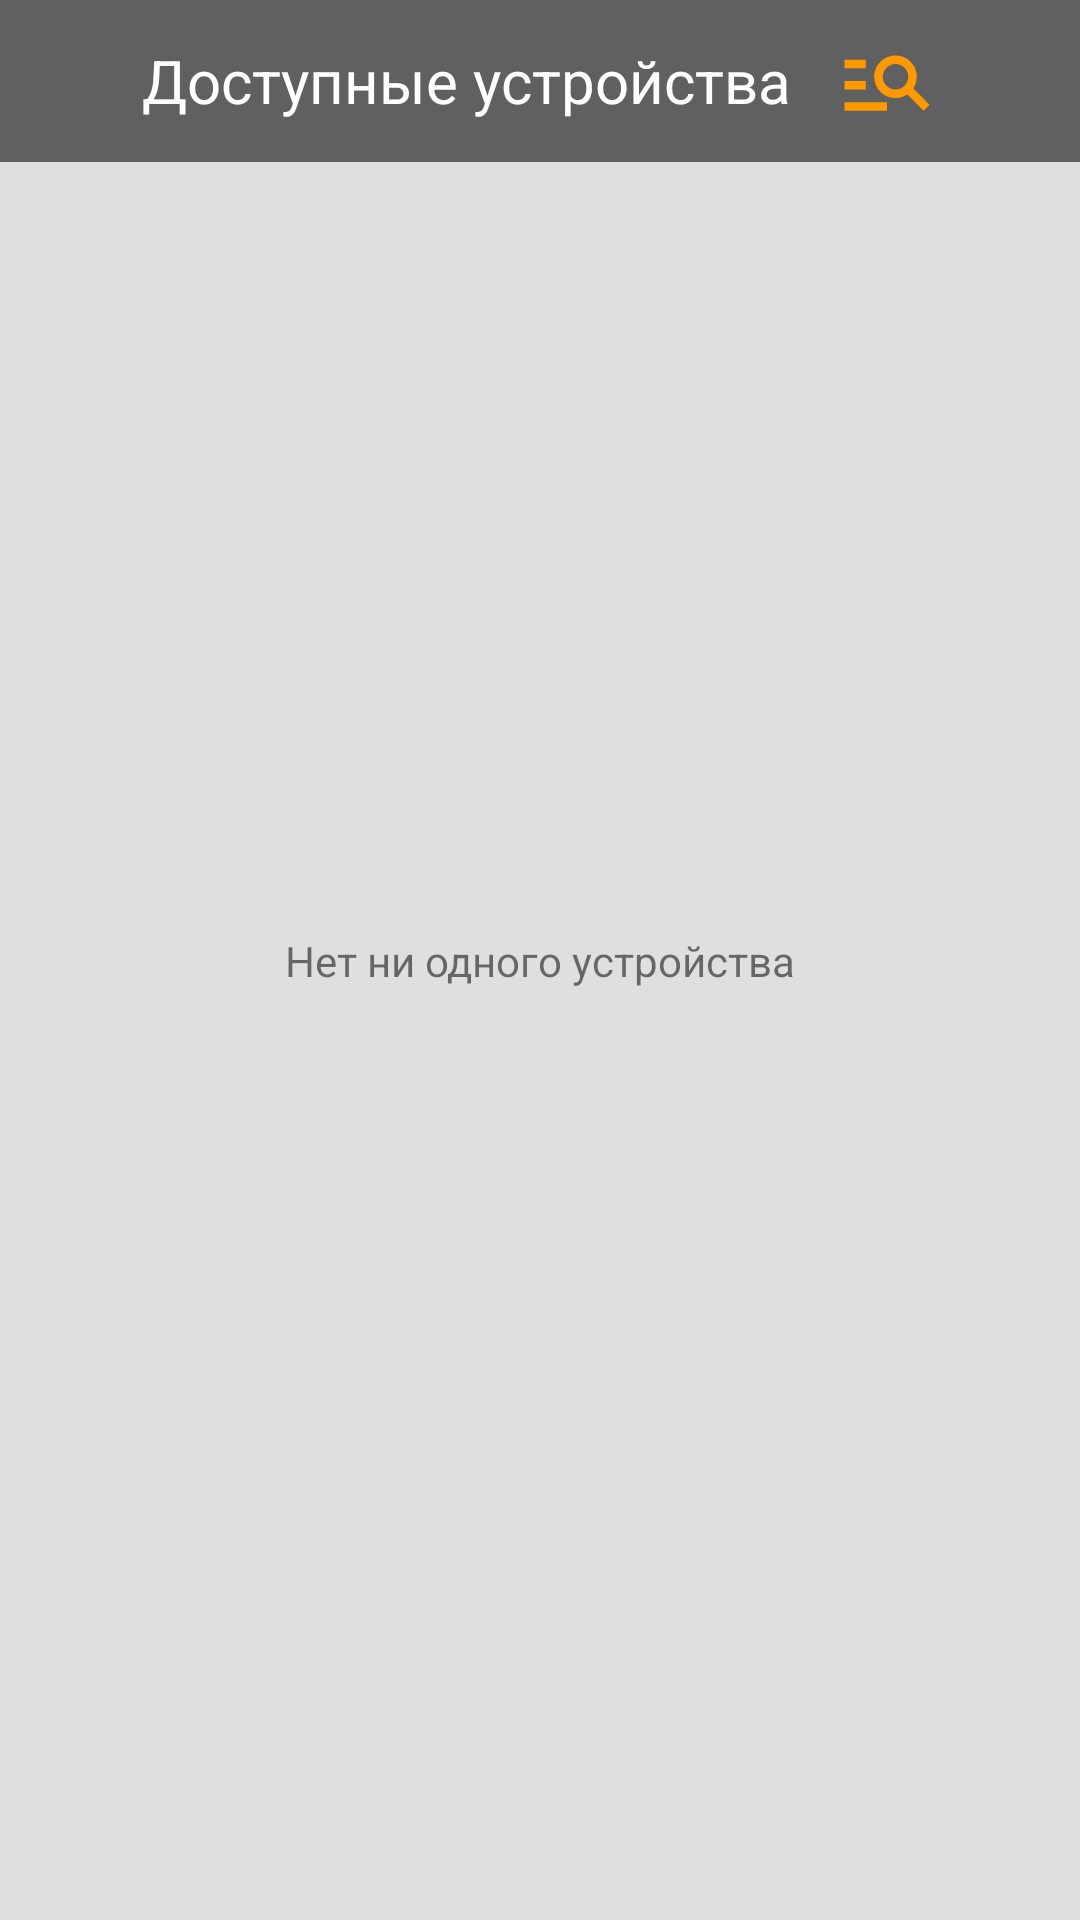

Icon click points for this 1080x1920 phone screenshot, format [x,y]:
search: [887,83]
